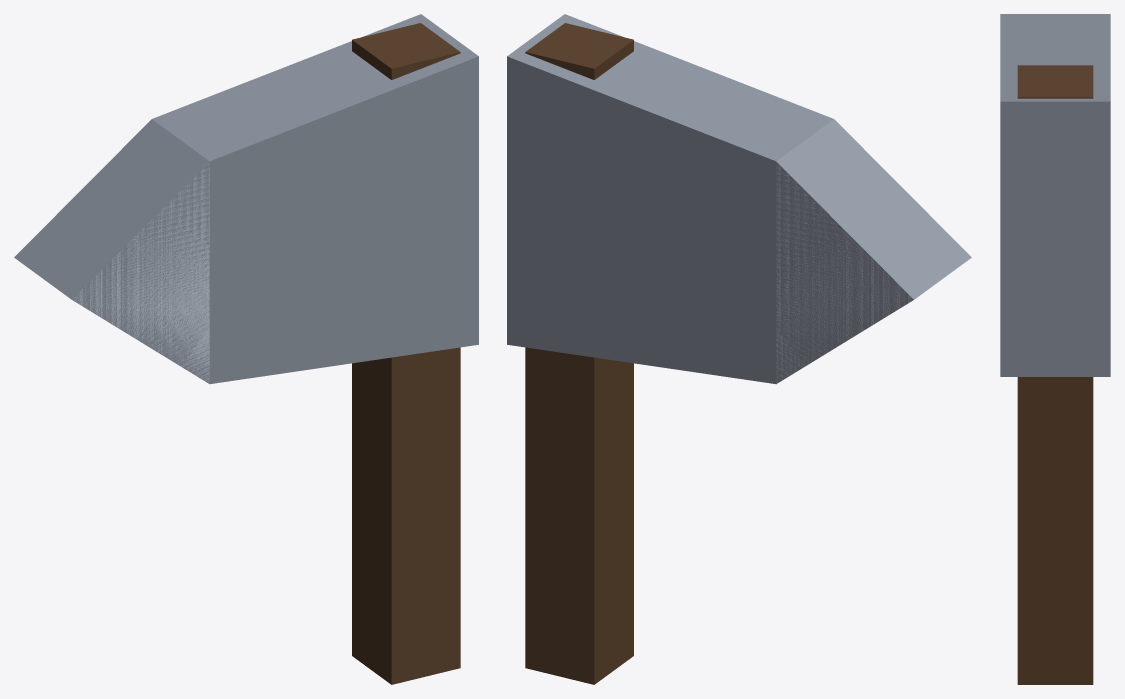
File: axe_marker.glb
3 renders of one model, left to right at view 1: azimuth 30°, elevation 25°; view 2: azimuth 150°, elevation 25°; view 3: azimuth 270°, elevation 25°, orthographic. The views are drawn at different scales.
Visible parts, largest first — view 1: AxeMarker; view 2: AxeMarker; view 3: AxeMarker.
Part boxes in pixels (x1=…): AxeMarker: x1=14, y1=14, x2=478, y2=684; AxeMarker: x1=507, y1=14, x2=971, y2=684; AxeMarker: x1=1000, y1=14, x2=1110, y2=684.
Bounding box in the file's own units: 0.6223 × 0.9 × 0.1532.
